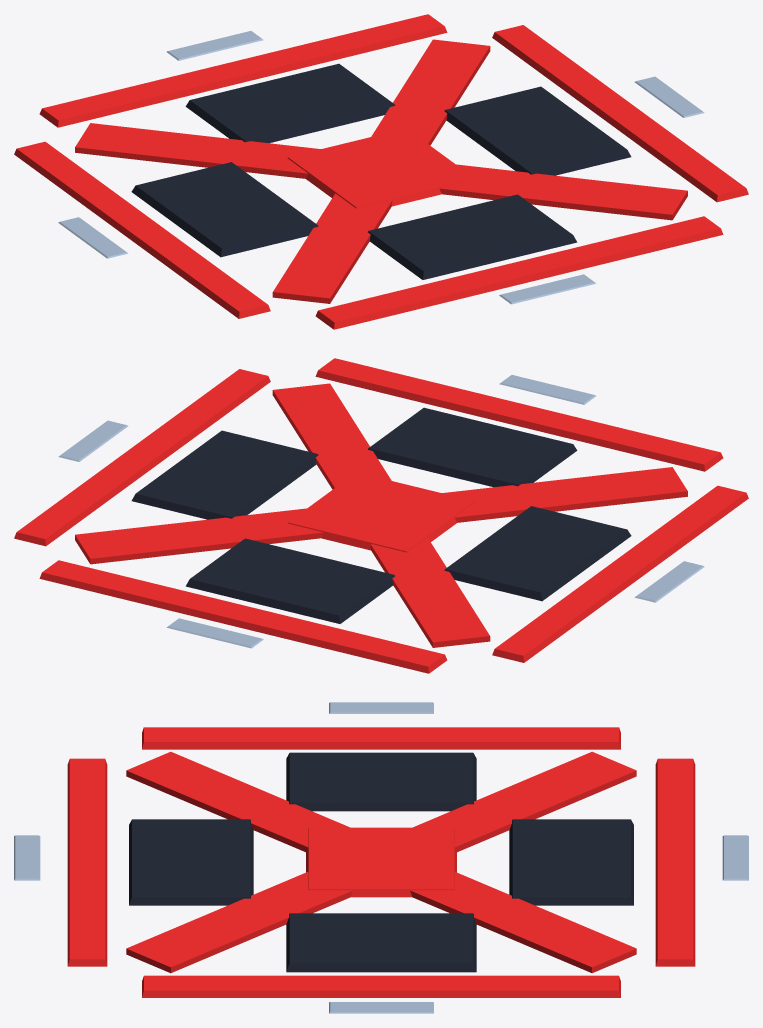
The model's file is SM_ArenaTile_Overlay_06_RingCollapse.obj.
3 renders of one model, top to bottom at view 1: azimuth 30°, elevation 25°; view 2: azimuth 150°, elevation 25°; view 3: azimuth 270°, elevation 25°, orthographic. The views are drawn at different scales.
Visible parts, largest first — view 1: SM_ArenaTile_Overlay_06_RingCollapse__EMI_DangerRed, SM_ArenaTile_Overlay_06_RingCollapse__MAT_DarkNeutral, SM_ArenaTile_Overlay_06_RingCollapse__MAT_LightTrim; view 2: SM_ArenaTile_Overlay_06_RingCollapse__EMI_DangerRed, SM_ArenaTile_Overlay_06_RingCollapse__MAT_DarkNeutral, SM_ArenaTile_Overlay_06_RingCollapse__MAT_LightTrim; view 3: SM_ArenaTile_Overlay_06_RingCollapse__EMI_DangerRed, SM_ArenaTile_Overlay_06_RingCollapse__MAT_DarkNeutral, SM_ArenaTile_Overlay_06_RingCollapse__MAT_LightTrim.
Boxes of the visible parts, x1,y1,x2,y2 form: SM_ArenaTile_Overlay_06_RingCollapse__EMI_DangerRed: (14,14,748,329); SM_ArenaTile_Overlay_06_RingCollapse__MAT_DarkNeutral: (131,63,631,279); SM_ArenaTile_Overlay_06_RingCollapse__MAT_LightTrim: (58,31,704,304); SM_ArenaTile_Overlay_06_RingCollapse__EMI_DangerRed: (14,358,748,673); SM_ArenaTile_Overlay_06_RingCollapse__MAT_DarkNeutral: (131,407,631,623); SM_ArenaTile_Overlay_06_RingCollapse__MAT_LightTrim: (58,375,704,648); SM_ArenaTile_Overlay_06_RingCollapse__EMI_DangerRed: (67,727,695,997); SM_ArenaTile_Overlay_06_RingCollapse__MAT_DarkNeutral: (129,752,633,972); SM_ArenaTile_Overlay_06_RingCollapse__MAT_LightTrim: (14,702,748,1013).
Size of the model in its own units: 11.2 by 0.14 by 11.2.
Materials: 3 (3 with a texture image).
